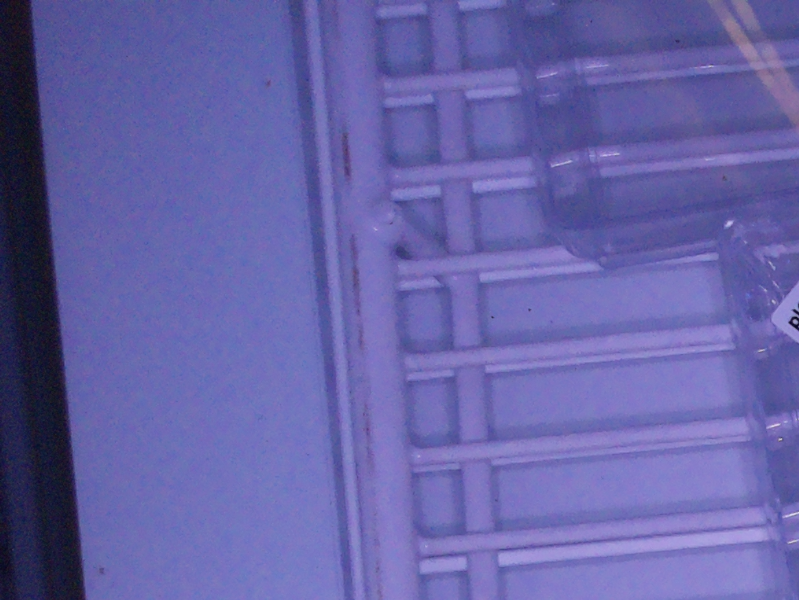plate: (503, 1, 799, 275), (715, 209, 799, 600)
